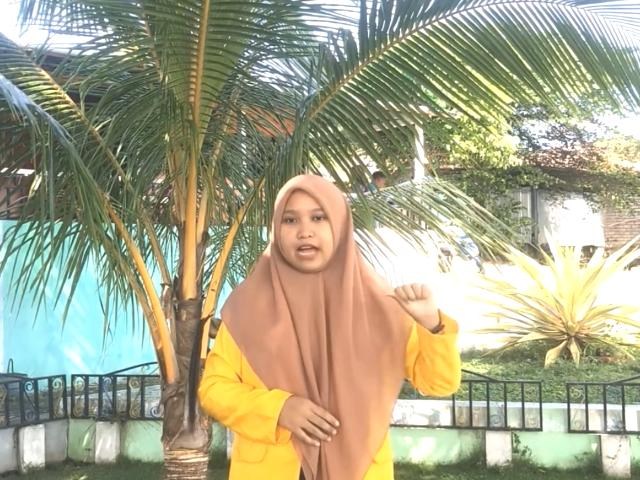A: (381, 280, 439, 328)
